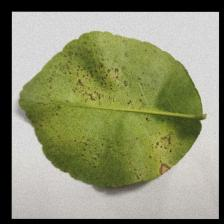canker: (62, 53, 122, 99)
